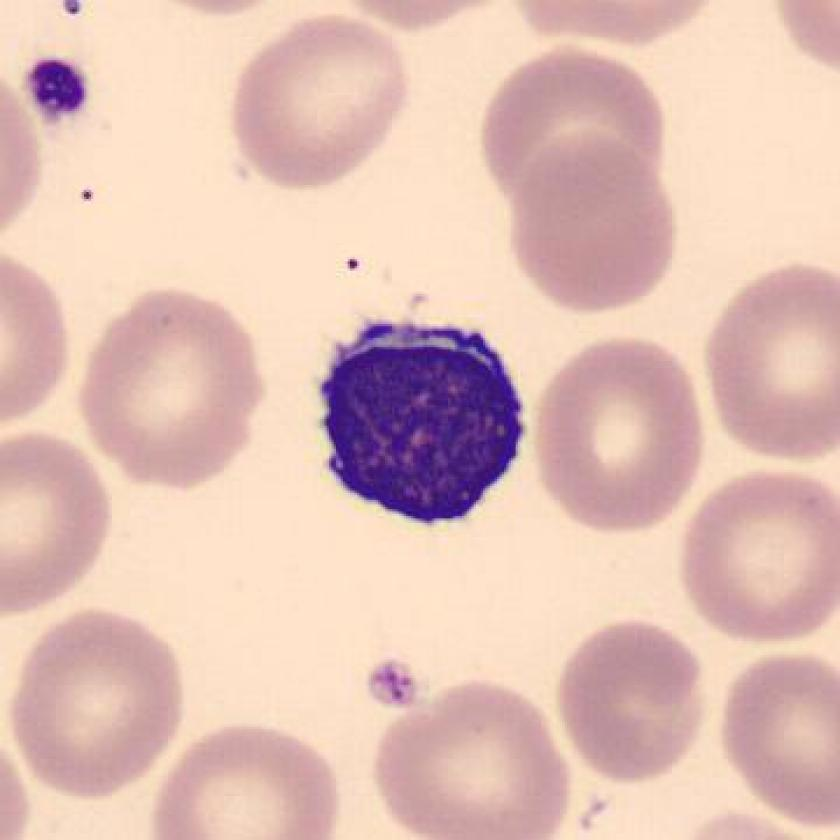lymphocyte: (293, 302, 549, 549)
